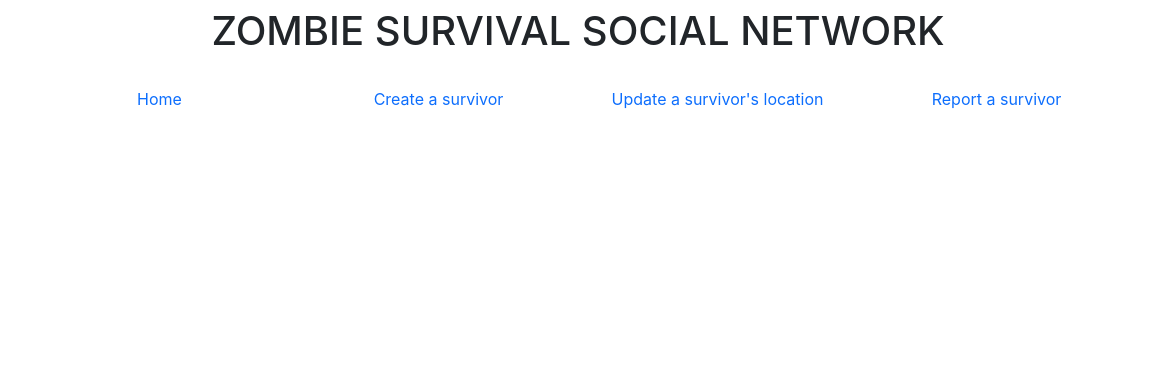
Test case: fails to create a infection report › returns an error
Click the link with test id "report-infection-link": [997, 99] box [932, 89, 1062, 109]
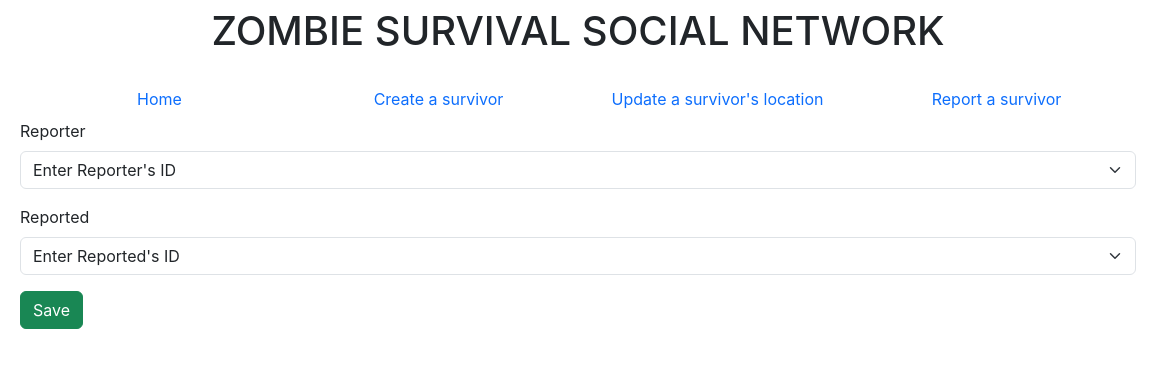
// Fills up the form
Select "John Doe" in the dropdown with id "infection-reporter": [578, 170] box [20, 151, 1136, 189]
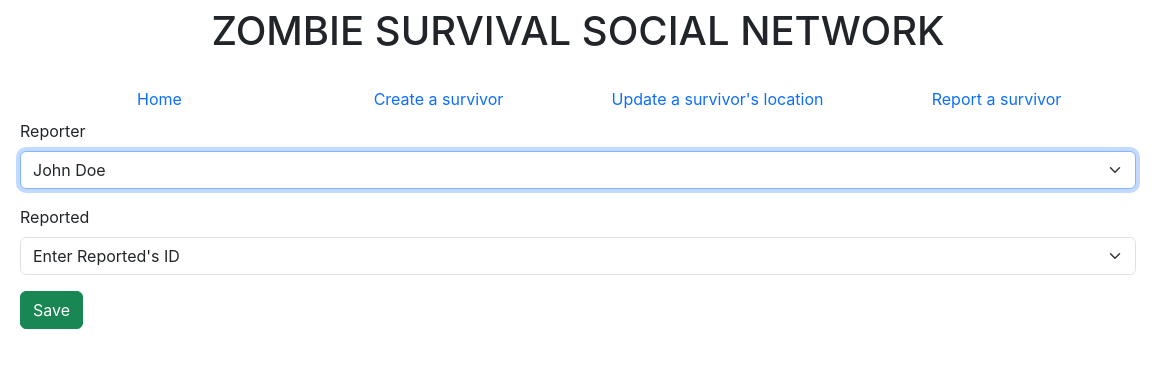
Select "John Doe" in the dropdown with id "infection-reported": [578, 256] box [20, 237, 1136, 275]
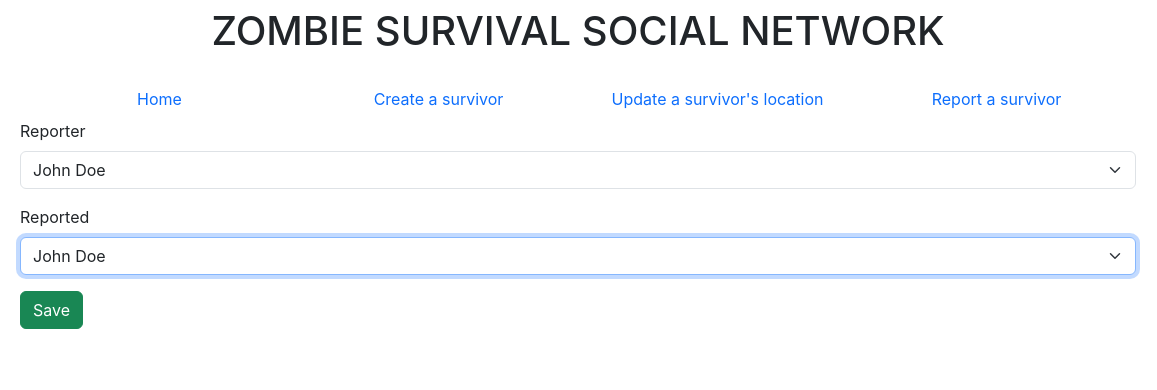
Click the button with test id "save-button": [52, 310] box [20, 291, 83, 329]
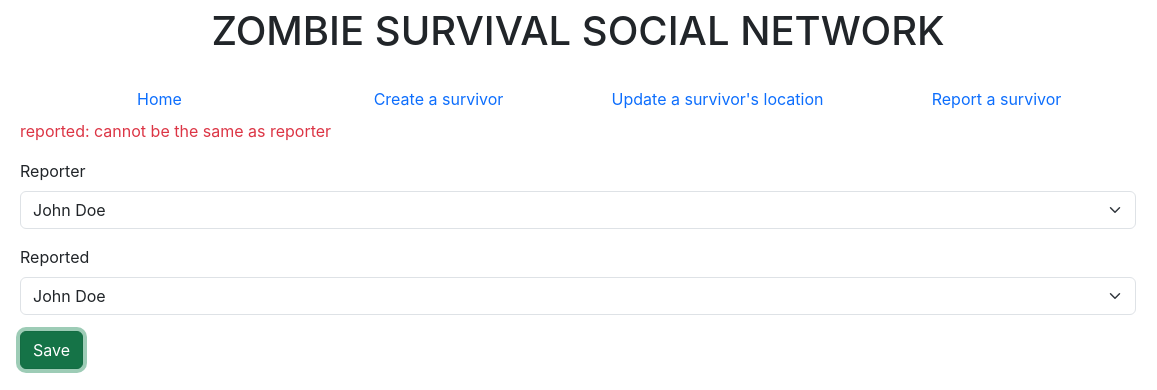
Expected: the element showing "reported: cannot be the same as reporter" is shown, [20, 121, 331, 141]
